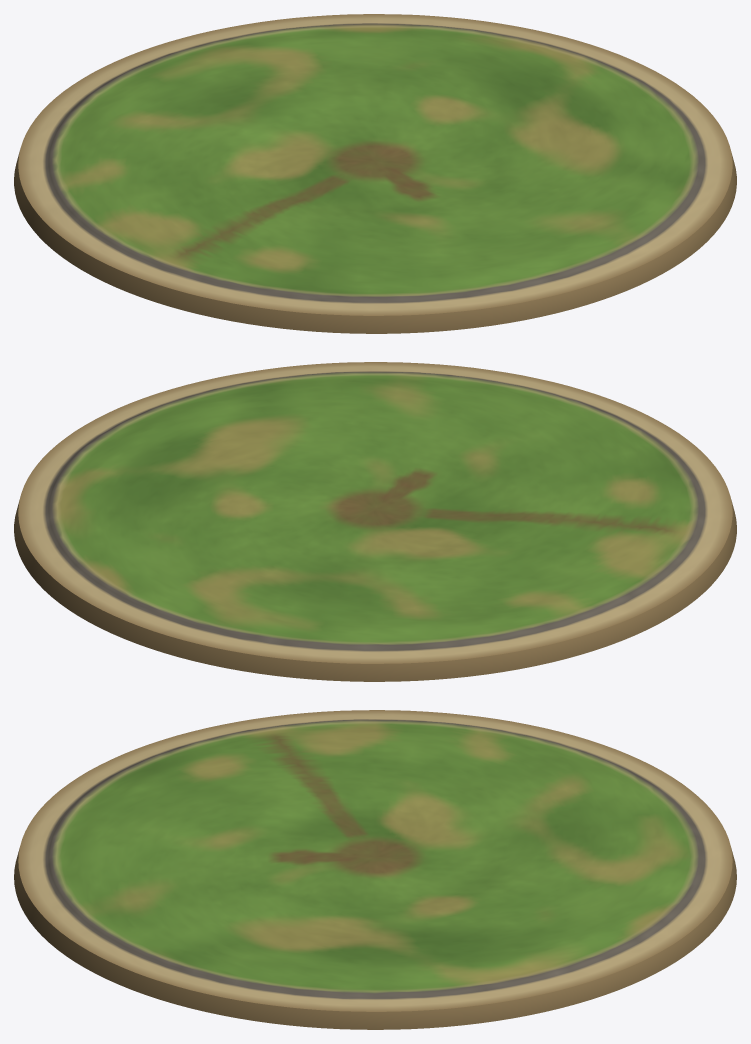
Rendered from island.glb.
3 views of the same model, one above another, from view 1: azimuth 30°, elevation 25°; view 2: azimuth 150°, elevation 25°; view 3: azimuth 270°, elevation 25° (orthographic).
Parts seen in each view (by area): view 1: island; view 2: island; view 3: island.
Part boxes in pixels (box(x1,y1,x2,y2)): island: box(14, 14, 736, 333); island: box(14, 362, 736, 681); island: box(14, 710, 736, 1029).
Size of the model in its own units: 99.2 by 3.7 by 99.2.
